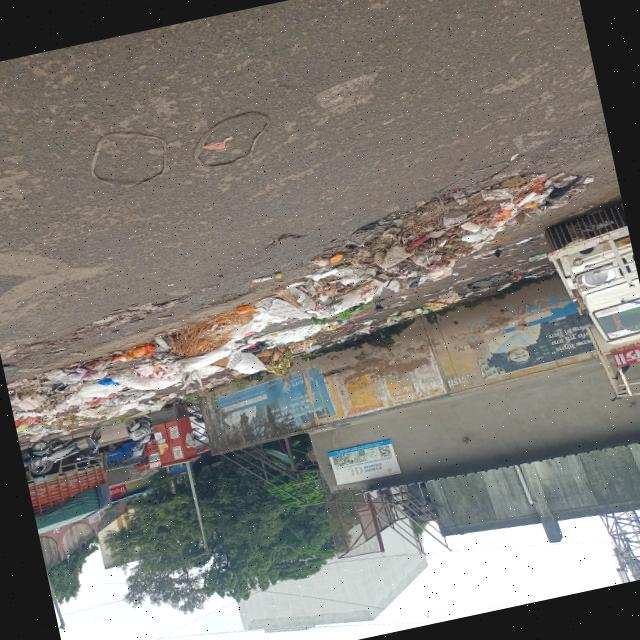garbage: (267, 167, 600, 324), (1, 294, 324, 440), (295, 289, 480, 352)
